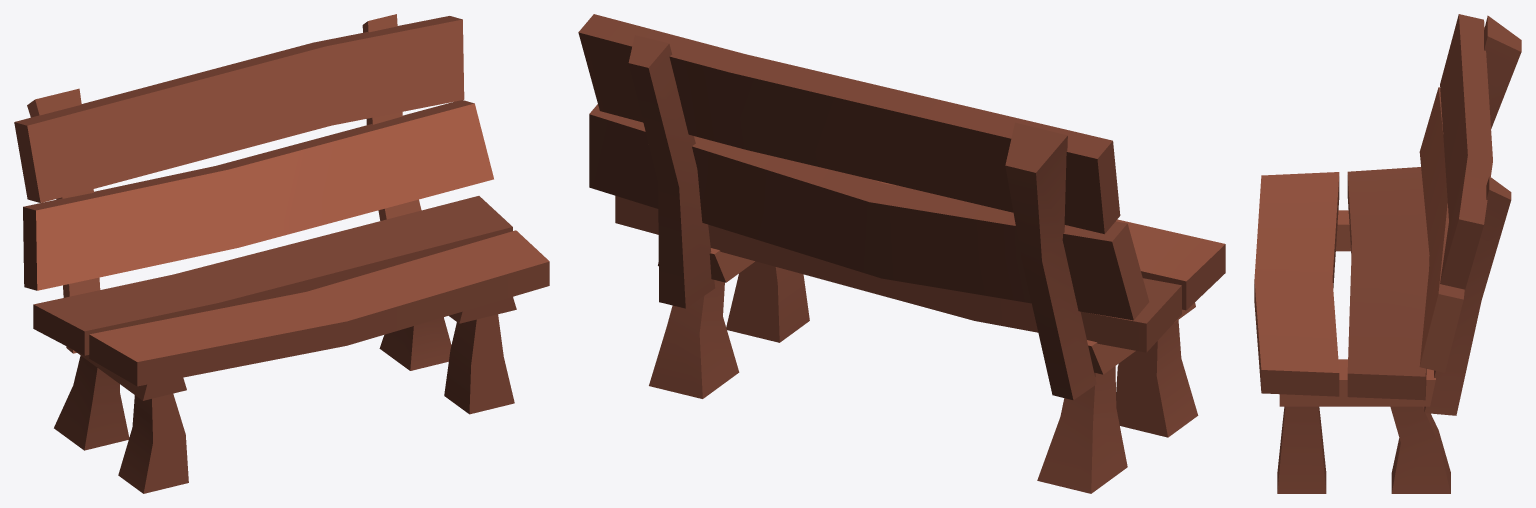
The model's file is Bench_1.fbx.
3 views of the same model, side by side, from view 1: azimuth 30°, elevation 25°; view 2: azimuth 150°, elevation 25°; view 3: azimuth 270°, elevation 25° (orthographic). The views are drawn at different scales.
Parts seen in each view (by area): view 1: Bench_1; view 2: Bench_1; view 3: Bench_1.
Part boxes in pixels (x1,y1,x2,y2): Bench_1: (14,14,549,493); Bench_1: (578,14,1225,493); Bench_1: (1254,14,1521,493).
Size of the model in its own units: 0.0248 by 0.0163 by 0.013.
